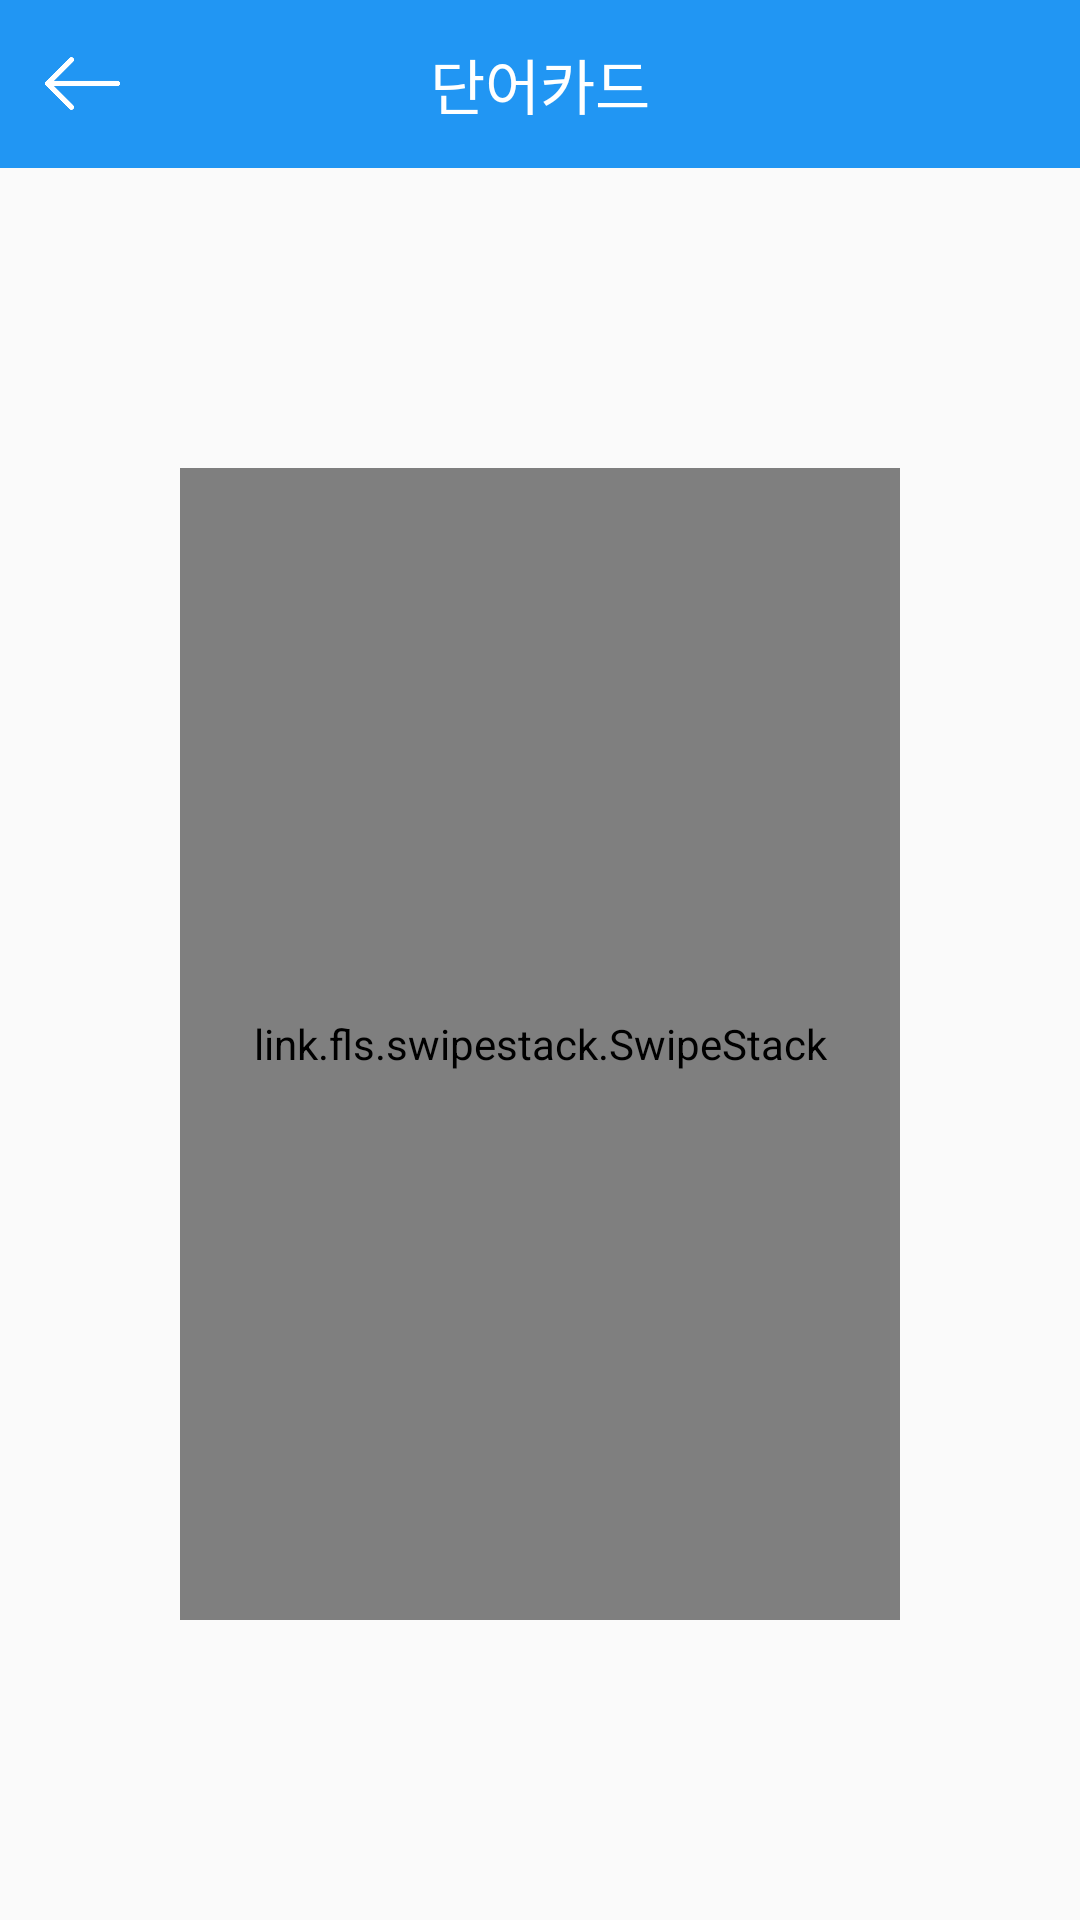

Icons on this 1080px×1920px Android screen, each with the point to tap as [x,y]:
arrow: [82,83]
